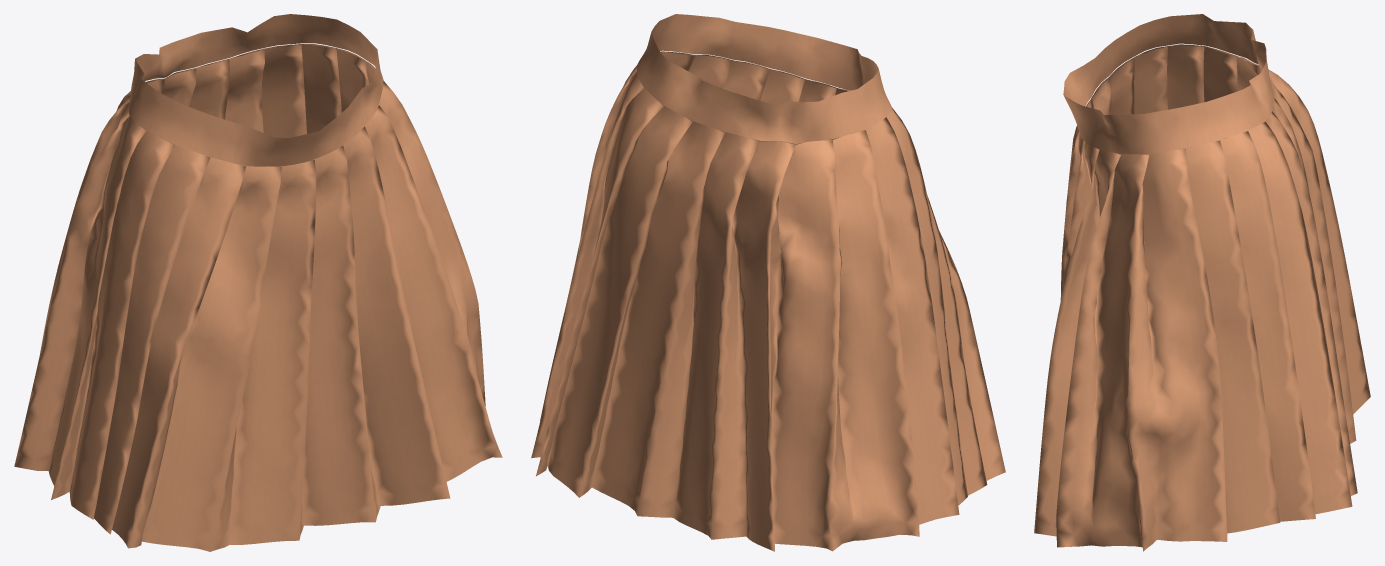
Rendered from skirt.fbx.
3 renders of one model, left to right at view 1: azimuth 30°, elevation 25°; view 2: azimuth 150°, elevation 25°; view 3: azimuth 270°, elevation 25°, orthographic. The views are drawn at different scales.
Parts seen in each view (by area): view 1: skirt; view 2: skirt; view 3: skirt.
Boxes of the visible parts, x1=… form: skirt: x1=14, y1=14, x2=502, y2=551; skirt: x1=531, y1=14, x2=1005, y2=551; skirt: x1=1034, y1=14, x2=1370, y2=551.
Size of the model in its own units: 56.18 by 57.74 by 40.28.
